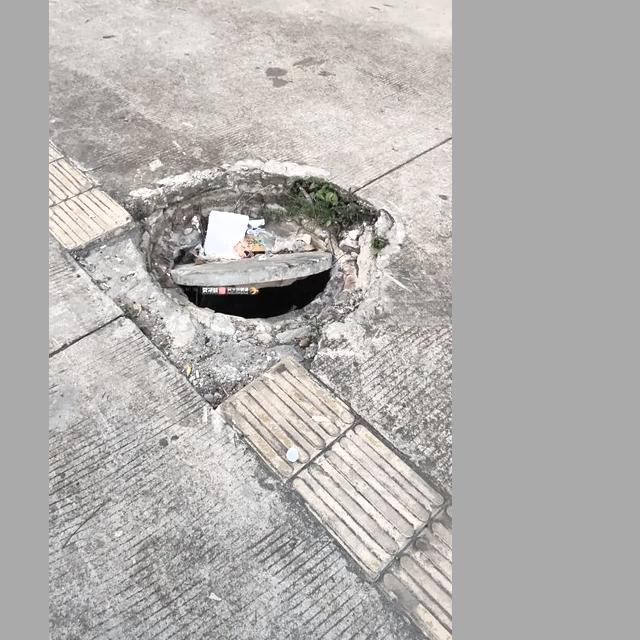circle: (87, 153, 417, 392)
